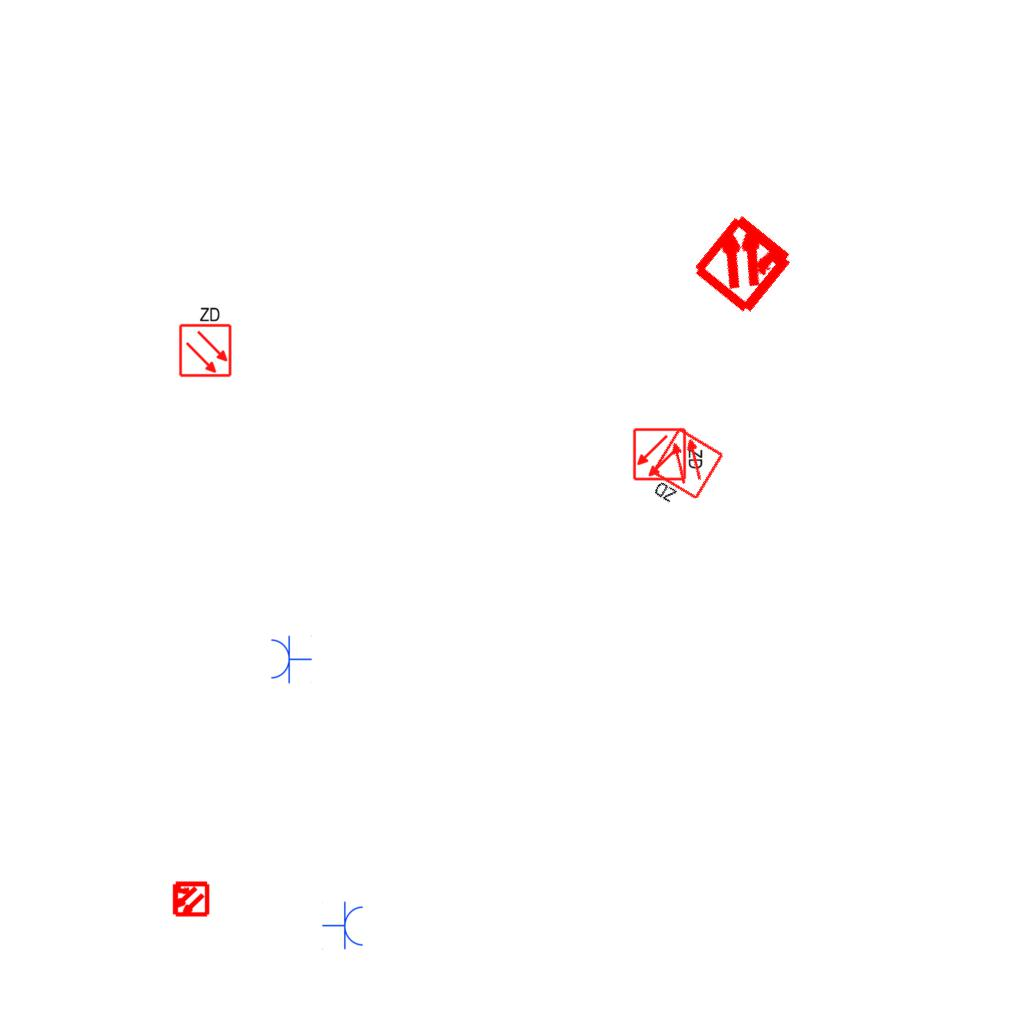OT_Multisensormelder_(Kombination_RMO_WMD): (665, 183, 824, 342), (162, 871, 218, 927)
Schukosteckdose_einfach: (269, 634, 312, 684), (322, 901, 365, 951)
ZD_Melder_in_Zwischendecke_mit_Revisionsoeffnung_mind_40_x_40_cm: (640, 425, 727, 519), (176, 304, 233, 378), (632, 425, 706, 482)
